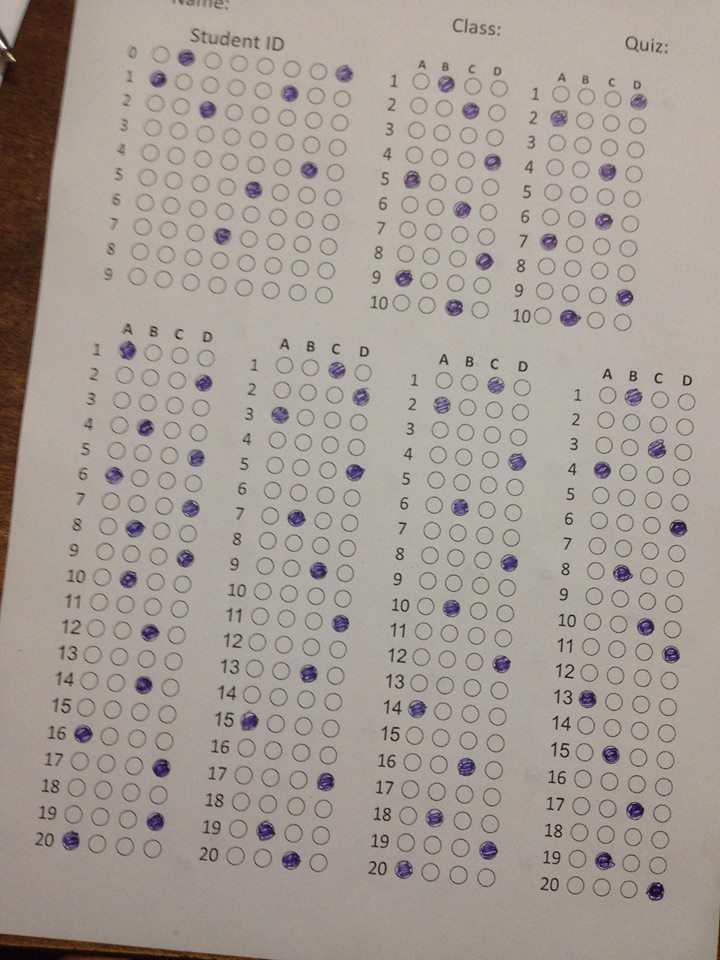not-c: (675, 389, 699, 413), (674, 414, 698, 438), (85, 831, 108, 856), (87, 804, 110, 829), (116, 806, 139, 831), (118, 779, 141, 804), (92, 777, 115, 802), (66, 776, 89, 801), (62, 802, 85, 827), (68, 748, 91, 773), (95, 750, 118, 775), (122, 753, 145, 778), (125, 726, 148, 751), (98, 724, 121, 749), (101, 696, 124, 721), (75, 695, 98, 720), (78, 668, 101, 693), (103, 671, 126, 696), (107, 645, 130, 670), (134, 646, 157, 671), (128, 698, 151, 723), (81, 641, 104, 666), (85, 616, 108, 641), (111, 618, 134, 643), (114, 592, 137, 617), (87, 589, 110, 614), (229, 789, 252, 813), (227, 816, 250, 840), (225, 843, 248, 867), (250, 846, 273, 870), (257, 793, 280, 817), (259, 766, 282, 790), (262, 738, 285, 762), (264, 712, 287, 736), (268, 684, 291, 708), (269, 659, 292, 683), (271, 631, 294, 655), (275, 607, 298, 631), (277, 581, 300, 605), (279, 556, 302, 580), (282, 531, 305, 555), (309, 533, 332, 557), (312, 508, 335, 532), (338, 512, 361, 536), (336, 536, 359, 560), (334, 561, 357, 585), (332, 587, 355, 611), (306, 583, 329, 607), (303, 609, 326, 633), (300, 636, 323, 660), (327, 637, 350, 661), (325, 662, 348, 686), (323, 689, 346, 713), (295, 686, 318, 710), (292, 715, 315, 739), (319, 715, 342, 739), (318, 743, 341, 767), (290, 740, 313, 764), (289, 768, 312, 792), (285, 795, 308, 819), (312, 797, 335, 821), (310, 823, 333, 847), (282, 821, 305, 845), (307, 851, 330, 875), (112, 364, 136, 387), (109, 388, 133, 411), (107, 414, 131, 437), (104, 439, 128, 462), (99, 489, 123, 512), (96, 514, 120, 537), (479, 812, 502, 835), (475, 865, 498, 888), (447, 863, 470, 886), (420, 861, 443, 884), (422, 832, 445, 855), (448, 836, 471, 859), (451, 809, 474, 832), (453, 782, 476, 805), (426, 780, 449, 803), (399, 777, 422, 800), (398, 803, 421, 826), (395, 831, 418, 854), (402, 751, 425, 774), (427, 754, 450, 777), (430, 727, 453, 750), (404, 725, 427, 748), (458, 729, 481, 752), (458, 701, 481, 724), (432, 699, 455, 722), (434, 674, 457, 697), (408, 671, 431, 694), (410, 646, 433, 669), (436, 647, 459, 670), (463, 650, 486, 673), (461, 676, 484, 699), (464, 624, 487, 647), (467, 599, 490, 622), (470, 575, 493, 598), (472, 547, 495, 570), (473, 524, 496, 547), (448, 521, 471, 544), (422, 519, 445, 542), (418, 544, 441, 567), (417, 569, 440, 592), (414, 595, 437, 618), (413, 618, 436, 641), (437, 622, 460, 645), (442, 570, 465, 593), (444, 546, 467, 569), (672, 440, 695, 463), (670, 466, 693, 489), (668, 491, 691, 514), (665, 541, 688, 564), (665, 567, 688, 590), (663, 590, 685, 614), (663, 617, 685, 641), (658, 668, 680, 692), (657, 696, 679, 720), (656, 721, 678, 745), (655, 747, 677, 771), (653, 774, 675, 798), (651, 802, 673, 826), (650, 828, 672, 852), (648, 852, 670, 876), (620, 851, 642, 875), (567, 847, 589, 871), (568, 820, 590, 844), (570, 793, 592, 817), (572, 767, 594, 791), (574, 741, 596, 765), (574, 713, 596, 737), (564, 873, 586, 897), (592, 875, 614, 899), (618, 877, 640, 901), (579, 660, 601, 684), (579, 634, 601, 658), (581, 610, 603, 634), (583, 584, 605, 608), (585, 558, 607, 582), (587, 535, 609, 559), (588, 509, 610, 533), (590, 482, 612, 506), (593, 434, 615, 458), (147, 544, 169, 567), (144, 570, 166, 593), (91, 566, 114, 588), (92, 541, 115, 563), (119, 542, 142, 564), (125, 491, 148, 513), (128, 468, 151, 490), (130, 442, 153, 464), (137, 391, 160, 413), (604, 663, 626, 686), (603, 689, 625, 712), (602, 716, 624, 739), (598, 769, 620, 792), (597, 795, 619, 818), (594, 822, 616, 845), (622, 824, 644, 847), (627, 771, 649, 794), (627, 745, 649, 768), (629, 718, 651, 741), (630, 693, 652, 716), (633, 666, 655, 689), (633, 640, 655, 663), (636, 589, 658, 612), (639, 564, 661, 587), (640, 540, 662, 563), (641, 514, 663, 537), (643, 488, 665, 511), (645, 463, 667, 486), (648, 412, 670, 435), (648, 387, 670, 410), (142, 596, 164, 618), (170, 573, 192, 595), (168, 597, 190, 619), (177, 523, 199, 545), (183, 472, 205, 494), (188, 421, 210, 443), (190, 396, 212, 418), (166, 623, 188, 645), (163, 651, 185, 673), (160, 676, 182, 698), (157, 703, 179, 725), (154, 730, 176, 752), (148, 783, 170, 805), (142, 838, 164, 860), (113, 834, 135, 856), (150, 44, 172, 65), (144, 92, 166, 113), (141, 117, 163, 138), (139, 142, 161, 163), (136, 167, 158, 188), (134, 192, 156, 213), (132, 216, 154, 237), (129, 240, 151, 261), (126, 265, 148, 286), (152, 268, 174, 289), (155, 244, 177, 265), (157, 219, 179, 240), (159, 194, 181, 215), (162, 170, 184, 191), (165, 145, 187, 166), (167, 121, 189, 142), (170, 96, 192, 117), (172, 71, 194, 92), (202, 50, 224, 71), (199, 74, 221, 95), (194, 123, 216, 144), (192, 149, 214, 170), (190, 172, 212, 193), (188, 198, 210, 219), (185, 222, 207, 243), (182, 247, 204, 268), (179, 272, 201, 293), (207, 275, 229, 296), (208, 249, 230, 270), (212, 201, 234, 222), (215, 176, 237, 197), (219, 151, 241, 172), (220, 127, 242, 148), (223, 102, 245, 123), (225, 77, 247, 98), (227, 53, 249, 74), (253, 56, 275, 77), (252, 79, 274, 100), (250, 104, 272, 125), (247, 129, 269, 150), (245, 154, 267, 175), (240, 203, 262, 224), (238, 228, 260, 249), (235, 251, 257, 272), (233, 276, 255, 297), (260, 279, 282, 300), (262, 255, 284, 276), (264, 231, 286, 252), (267, 207, 289, 228), (268, 181, 290, 202), (271, 156, 293, 177), (273, 132, 295, 153), (275, 106, 297, 127), (280, 59, 302, 80), (307, 61, 329, 82), (305, 85, 327, 106), (304, 110, 326, 131), (300, 134, 322, 155), (296, 183, 318, 204), (294, 208, 316, 229), (292, 233, 314, 254), (289, 256, 311, 277), (287, 282, 309, 303), (313, 284, 335, 305), (314, 259, 336, 280), (318, 235, 340, 256), (319, 212, 341, 233), (321, 186, 343, 207), (326, 162, 348, 183), (326, 138, 348, 159), (329, 111, 351, 132), (330, 88, 352, 109), (390, 291, 412, 312), (416, 294, 438, 315), (418, 270, 440, 291), (420, 245, 442, 266), (422, 221, 444, 242), (425, 196, 447, 217), (428, 172, 450, 193), (429, 146, 451, 167), (430, 122, 452, 143), (434, 97, 456, 118), (410, 70, 432, 91), (408, 94, 430, 115), (406, 119, 428, 140), (404, 144, 426, 165), (400, 193, 422, 214), (397, 219, 419, 240), (394, 242, 416, 263), (446, 248, 468, 269), (448, 223, 470, 244), (452, 173, 474, 194), (455, 149, 477, 170), (457, 125, 479, 146), (462, 74, 484, 95), (488, 77, 510, 98), (486, 102, 508, 123), (484, 127, 506, 148), (479, 176, 501, 197), (477, 201, 499, 222), (476, 225, 498, 246), (472, 274, 494, 295), (470, 299, 492, 320), (445, 273, 467, 294), (549, 82, 571, 103), (575, 85, 597, 106), (602, 87, 624, 108), (601, 113, 623, 134), (575, 109, 597, 130), (626, 114, 648, 135), (625, 140, 647, 161), (598, 137, 620, 158), (572, 133, 594, 154), (546, 132, 568, 153), (543, 156, 565, 177), (569, 158, 591, 179), (622, 163, 644, 184), (621, 188, 643, 209), (595, 186, 617, 207), (568, 183, 590, 204), (542, 180, 564, 201), (540, 206, 562, 227), (565, 208, 587, 229), (619, 212, 641, 233), (618, 237, 640, 258), (615, 262, 637, 283), (590, 260, 612, 281), (587, 284, 609, 305), (561, 282, 583, 303), (534, 280, 556, 301), (536, 255, 558, 276), (562, 258, 584, 279), (564, 233, 586, 254), (590, 235, 612, 256), (585, 309, 607, 330), (611, 311, 633, 332), (531, 304, 553, 325), (512, 376, 534, 397), (510, 401, 532, 422), (508, 427, 530, 448), (503, 476, 525, 497), (502, 501, 524, 522), (500, 526, 522, 547), (496, 577, 518, 598), (494, 602, 516, 623), (493, 627, 515, 648), (488, 679, 510, 700), (487, 706, 509, 727), (485, 733, 507, 754), (483, 759, 505, 780), (481, 785, 503, 806), (478, 474, 500, 495), (451, 472, 473, 493), (425, 470, 447, 491), (426, 444, 448, 465), (429, 420, 451, 441), (453, 421, 475, 442), (457, 397, 479, 418), (458, 372, 480, 393), (434, 369, 456, 390), (483, 399, 505, 420), (481, 424, 503, 445), (481, 449, 503, 470), (454, 446, 476, 467), (476, 499, 498, 520), (424, 494, 446, 515), (353, 362, 375, 383), (300, 356, 322, 377), (274, 355, 296, 376), (272, 378, 294, 399), (297, 382, 319, 403), (324, 383, 346, 404), (321, 408, 343, 429), (348, 410, 370, 431), (294, 407, 316, 428), (292, 432, 314, 453), (319, 433, 341, 454), (344, 435, 366, 456), (267, 428, 289, 449), (263, 455, 285, 476), (290, 457, 312, 478), (316, 459, 338, 480), (341, 487, 363, 508), (315, 484, 337, 505), (288, 481, 310, 502), (262, 479, 284, 500), (259, 505, 281, 526), (258, 530, 280, 551), (255, 554, 277, 575), (252, 580, 274, 601), (249, 606, 271, 627), (247, 632, 269, 653), (244, 657, 266, 678), (241, 684, 263, 705), (236, 737, 258, 758), (233, 765, 255, 786), (195, 348, 217, 369), (168, 345, 190, 366), (142, 341, 164, 362), (139, 366, 161, 387), (165, 369, 187, 390), (163, 394, 185, 415), (161, 419, 183, 440), (159, 445, 181, 466), (156, 469, 178, 490), (154, 495, 176, 516), (150, 520, 172, 541), (596, 385, 618, 406), (595, 409, 617, 430), (621, 411, 643, 432), (619, 437, 641, 458), (617, 460, 639, 481), (615, 486, 637, 507), (614, 513, 636, 534), (612, 537, 634, 558), (609, 587, 631, 608), (608, 613, 630, 634), (606, 639, 628, 660)
taken-c: (405, 697, 428, 719), (455, 755, 478, 777), (424, 807, 447, 829), (477, 838, 500, 860), (392, 858, 415, 880), (644, 881, 667, 903), (593, 849, 616, 871), (623, 798, 646, 820), (599, 744, 622, 766), (576, 687, 599, 709), (659, 643, 682, 665), (634, 615, 657, 637), (610, 562, 633, 584), (666, 516, 689, 538), (591, 459, 614, 481), (645, 439, 668, 461), (622, 385, 645, 407), (284, 506, 307, 528), (307, 559, 330, 581), (329, 612, 352, 634), (297, 662, 320, 684), (238, 709, 261, 731), (314, 770, 337, 792), (254, 819, 277, 841), (279, 849, 302, 871), (144, 809, 166, 832), (60, 828, 82, 851), (150, 756, 172, 779), (72, 722, 94, 745), (132, 674, 154, 697), (138, 621, 160, 644), (117, 566, 139, 589), (174, 547, 196, 570), (123, 516, 145, 539), (179, 496, 201, 519), (102, 463, 124, 486), (185, 446, 207, 469), (134, 416, 156, 439), (192, 371, 214, 394), (116, 338, 138, 361), (176, 47, 198, 68), (333, 63, 355, 84), (278, 82, 300, 103), (146, 68, 168, 89), (196, 99, 218, 120), (297, 160, 319, 181), (242, 179, 264, 200), (211, 225, 233, 246), (393, 267, 415, 288), (474, 250, 496, 271), (443, 297, 465, 318), (450, 199, 472, 220), (401, 169, 423, 190), (482, 151, 504, 172), (460, 99, 482, 120), (435, 73, 457, 94), (548, 107, 570, 128), (628, 91, 650, 112), (596, 161, 618, 182), (592, 211, 614, 232), (538, 231, 560, 252), (613, 287, 635, 308), (558, 306, 580, 327), (485, 375, 507, 396), (431, 394, 453, 415), (506, 451, 528, 472), (449, 496, 471, 517), (498, 552, 520, 573), (440, 597, 462, 618), (490, 653, 512, 674), (326, 359, 348, 380), (349, 384, 371, 405), (268, 404, 290, 425), (343, 461, 365, 482)
